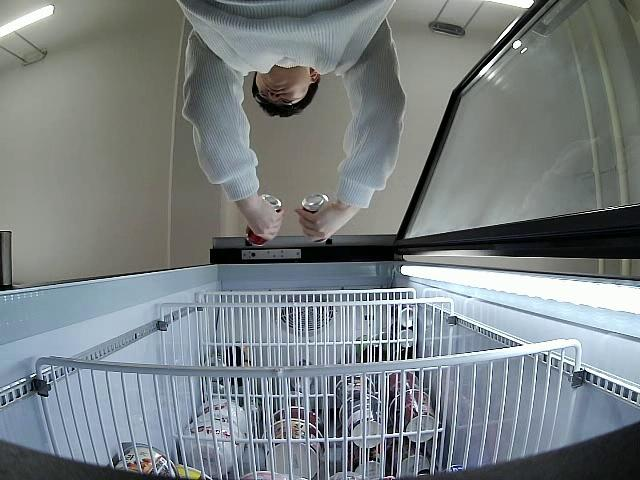00_hand: (231, 197, 283, 241), (293, 201, 348, 241)
11_cocaColaZero: (246, 194, 281, 247), (304, 191, 332, 243)
